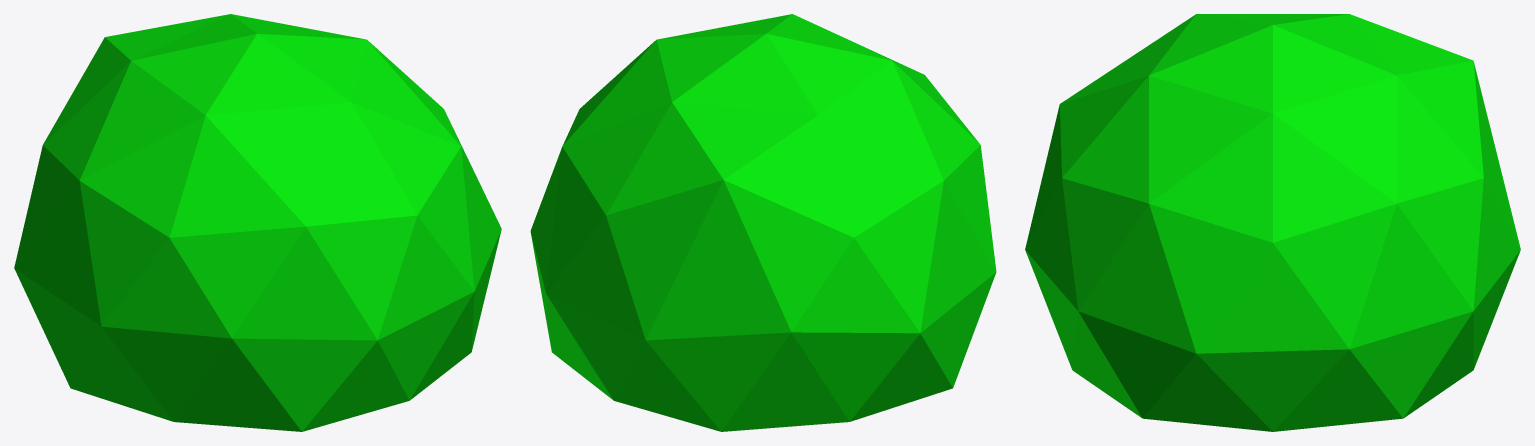
The model's file is bush.fbx.
The picture shows the model from 3 angles, left to right: view 1: azimuth 30°, elevation 25°; view 2: azimuth 150°, elevation 25°; view 3: azimuth 270°, elevation 25°; orthographic projection. The views are drawn at different scales.
Visible parts, largest first — view 1: Icosphere; view 2: Icosphere; view 3: Icosphere.
Boxes of the visible parts, left/top/right/bottom form: Icosphere: left=14, top=14, right=501, bottom=431; Icosphere: left=530, top=14, right=996, bottom=431; Icosphere: left=1025, top=14, right=1520, bottom=431.
Size of the model in its own units: 194 by 141 by 200.
